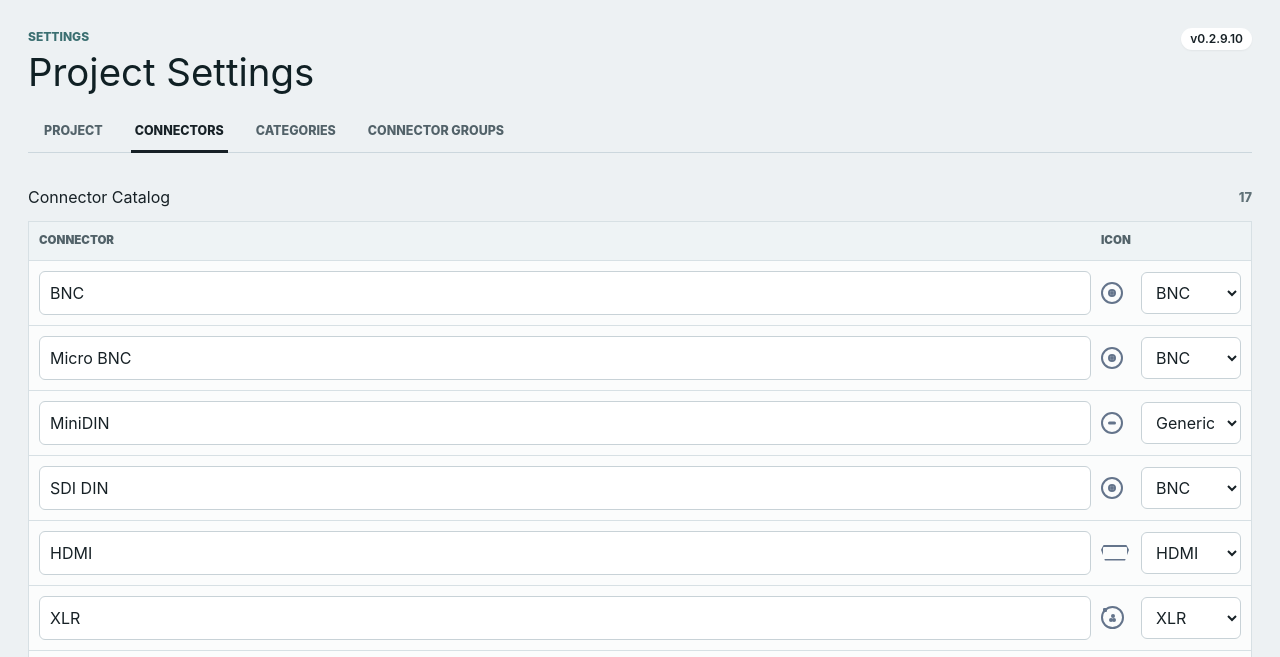
it: SettingsWorkspace tabs and accessibility › keeps click and keyboard tab activation equivalent to button behavior
Step 1. Press Tab Enter
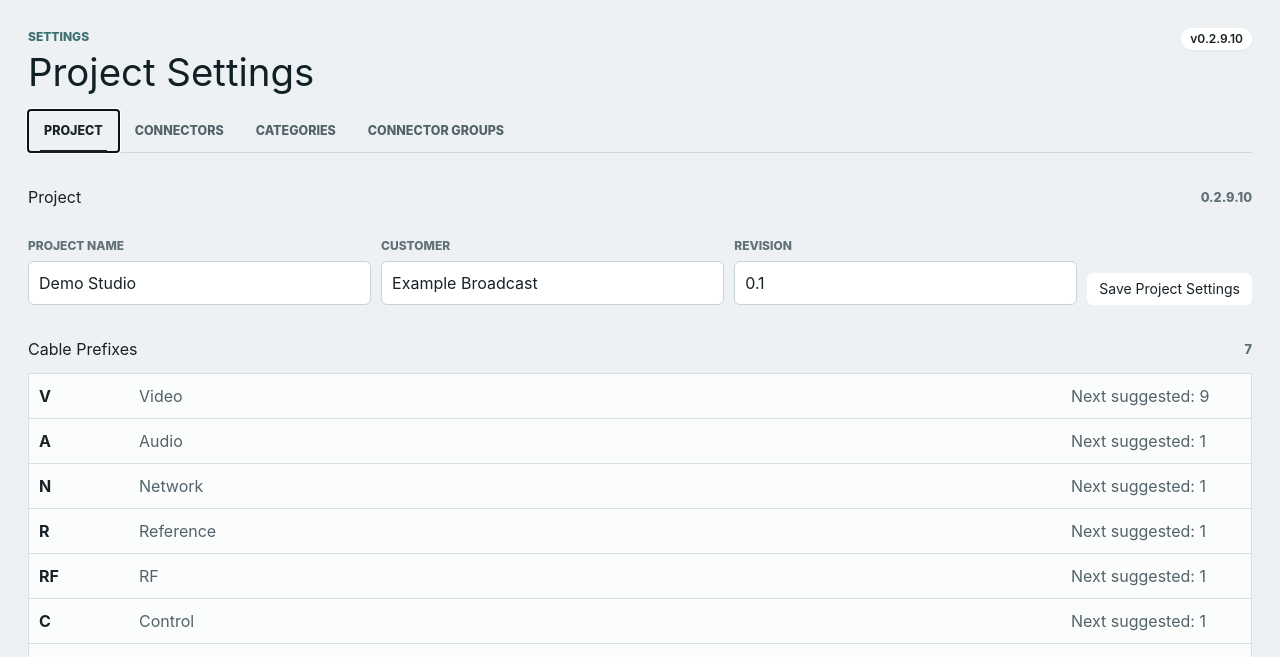
Expected: the heading "Project" is shown, [28, 185, 81, 209]
Step 2. Click the tab "Categories" → (296, 131), box [240, 110, 352, 152]
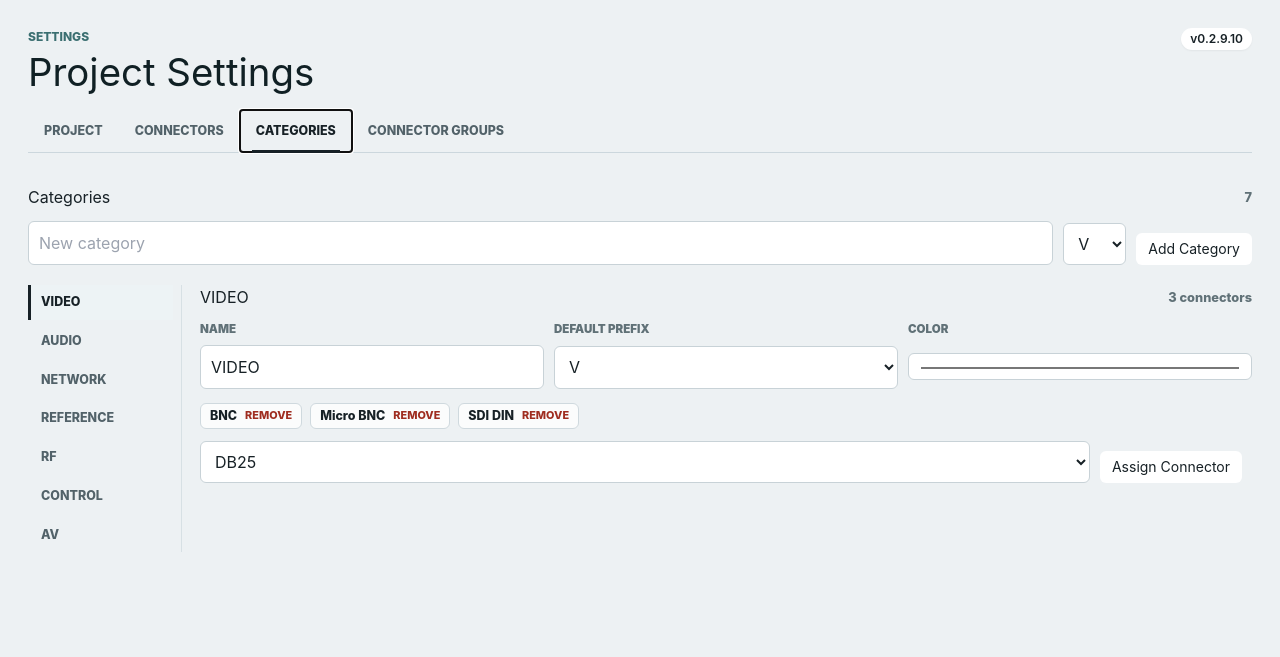
Expected: the heading "Categories" is shown, [28, 185, 110, 209]
